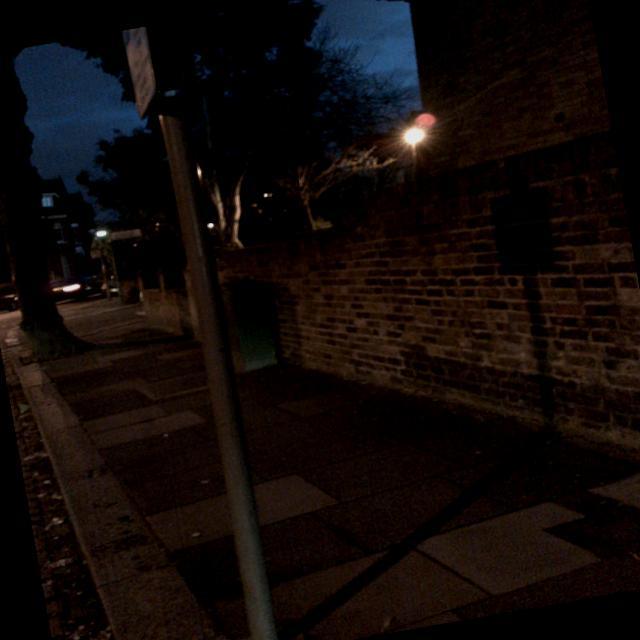Vehicle: (49, 270, 106, 304), (0, 284, 22, 318), (98, 278, 120, 298)
